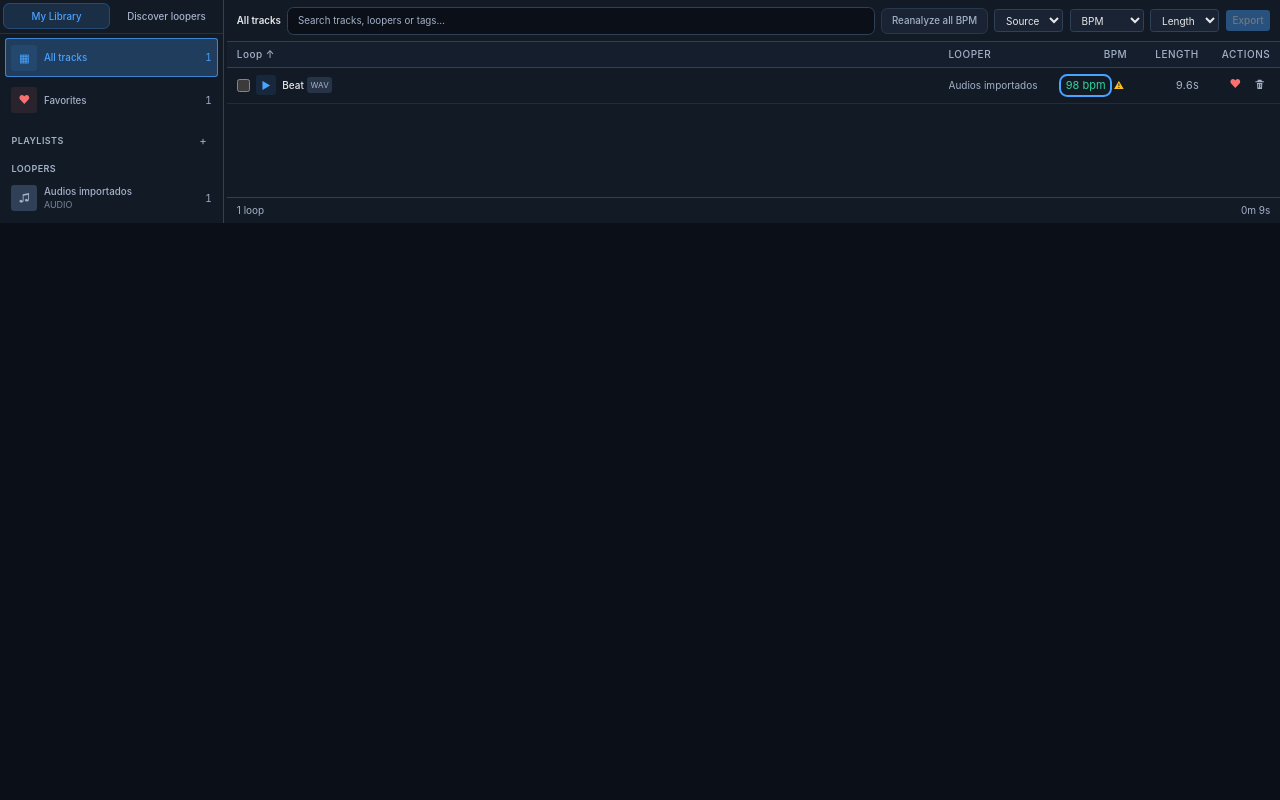
Test case: closing and reopening the same track rejects the old session's response
The image size is (1280, 800).
Double-click the button with aria-label "Edit BPM for Beat": {"x": 1086, "y": 85} [1064,79,1107,92]
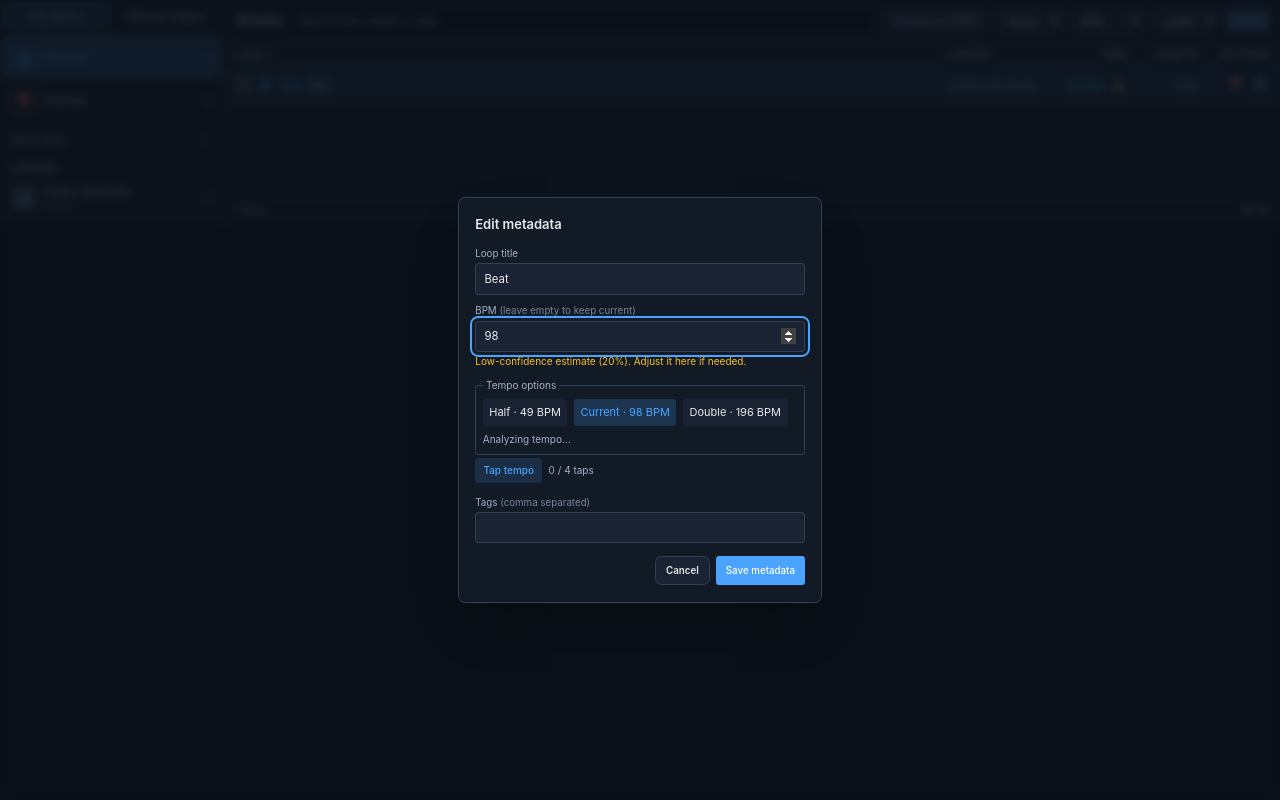
Click the button "Cancel": {"x": 682, "y": 571} [655,556,710,585]
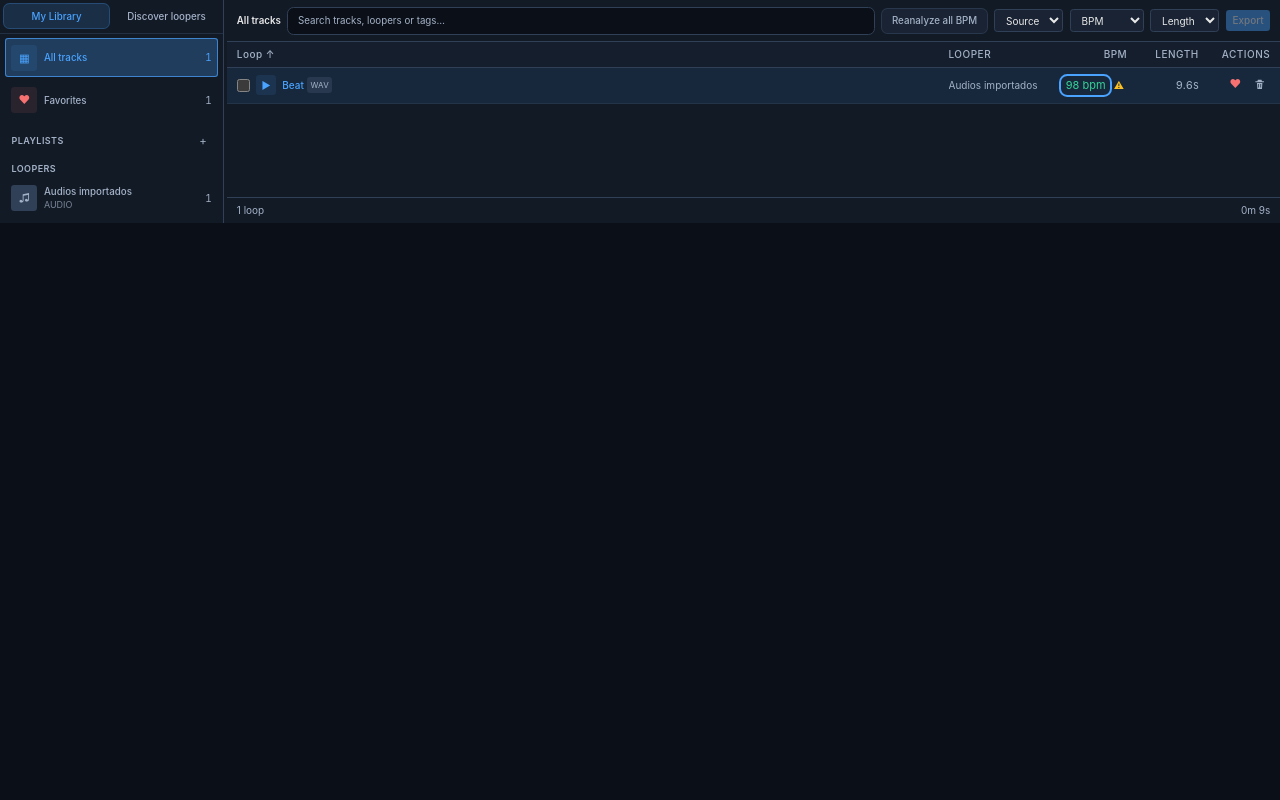
Double-click the button with aria-label "Edit BPM for Beat": {"x": 1086, "y": 85} [1064,79,1107,92]
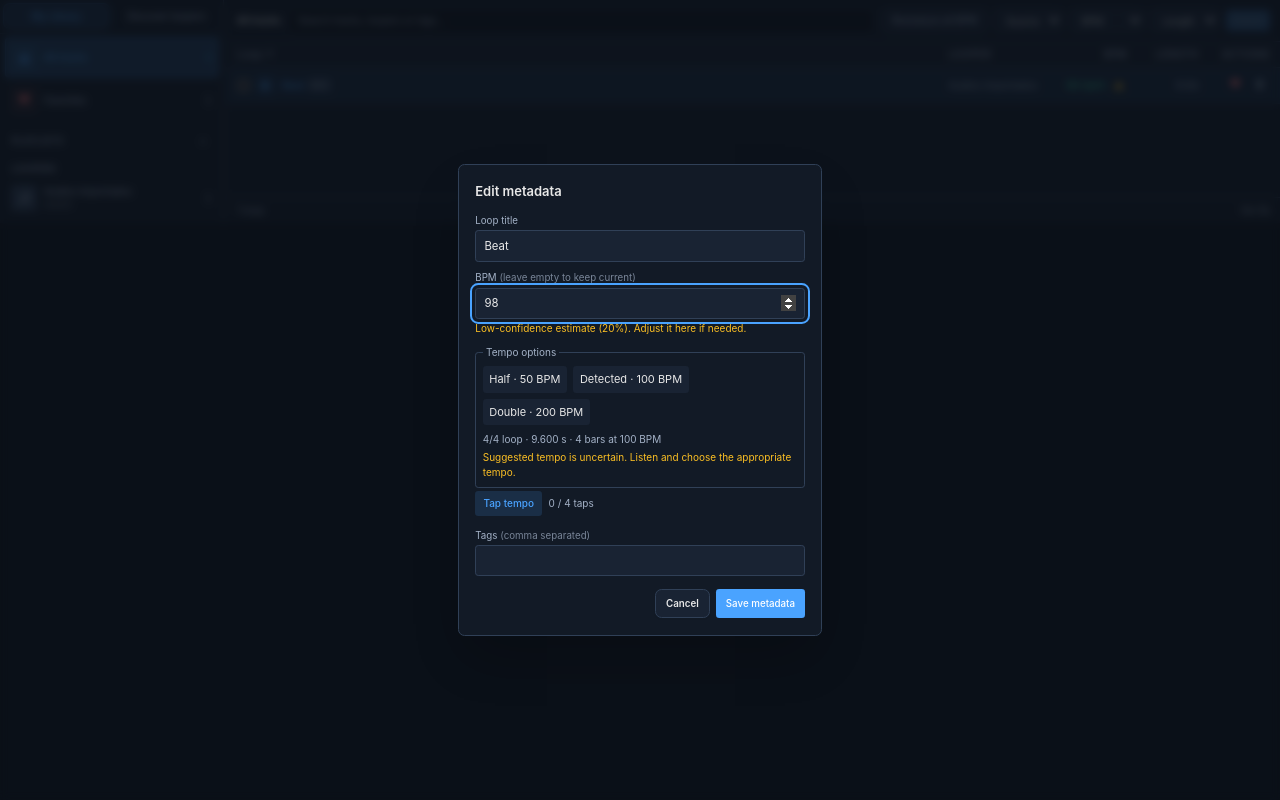
expect the button "Detected · 100 BPM" is shown: met, box [573,366,689,393]
expect the number field labelled "BPM" holds "98": met, box [475,288,805,319]
